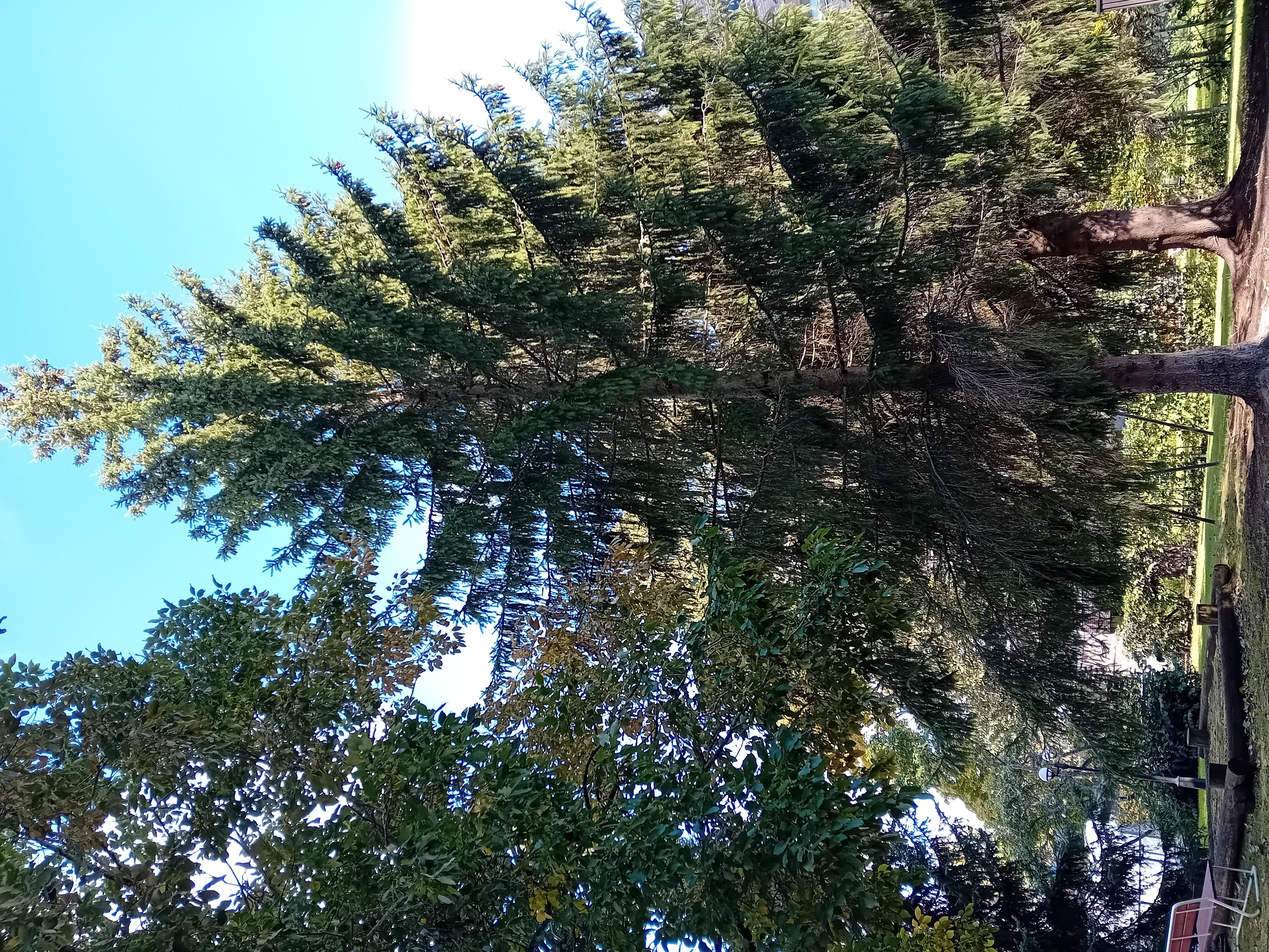Spruce: (391, 0, 1266, 950)
